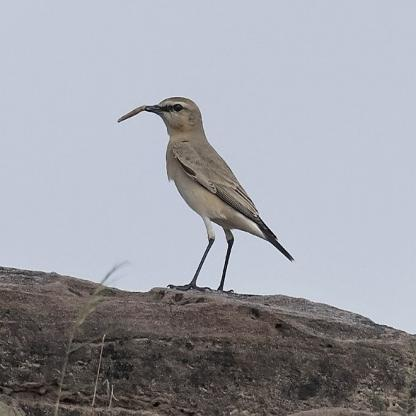Burung: (113, 98, 294, 293)
